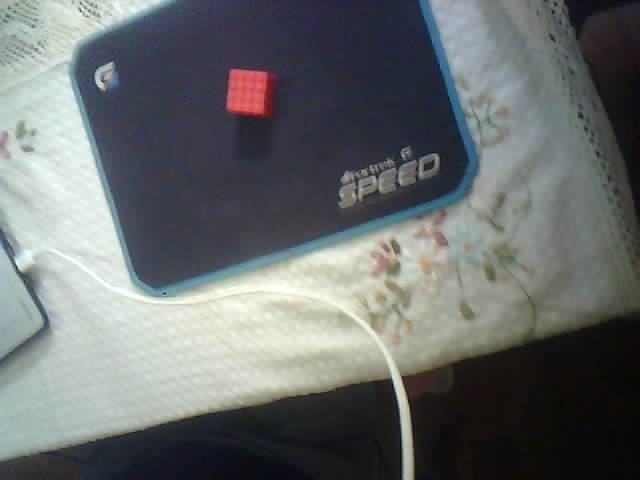lego: (223, 67, 277, 118)
